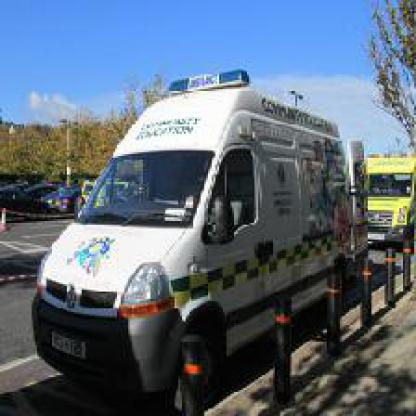emergency: (27, 66, 355, 364)
